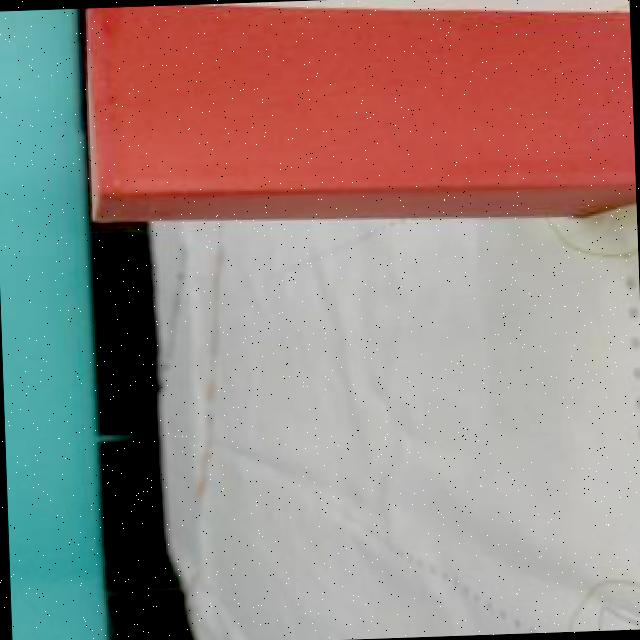redbox: (78, 0, 637, 239)
